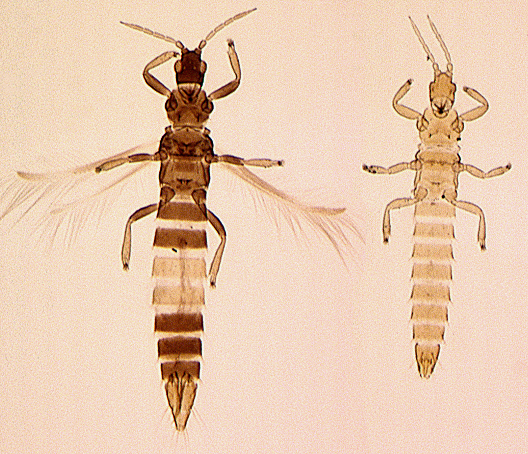Thripidae: (6, 8, 350, 439), (359, 15, 517, 384)
